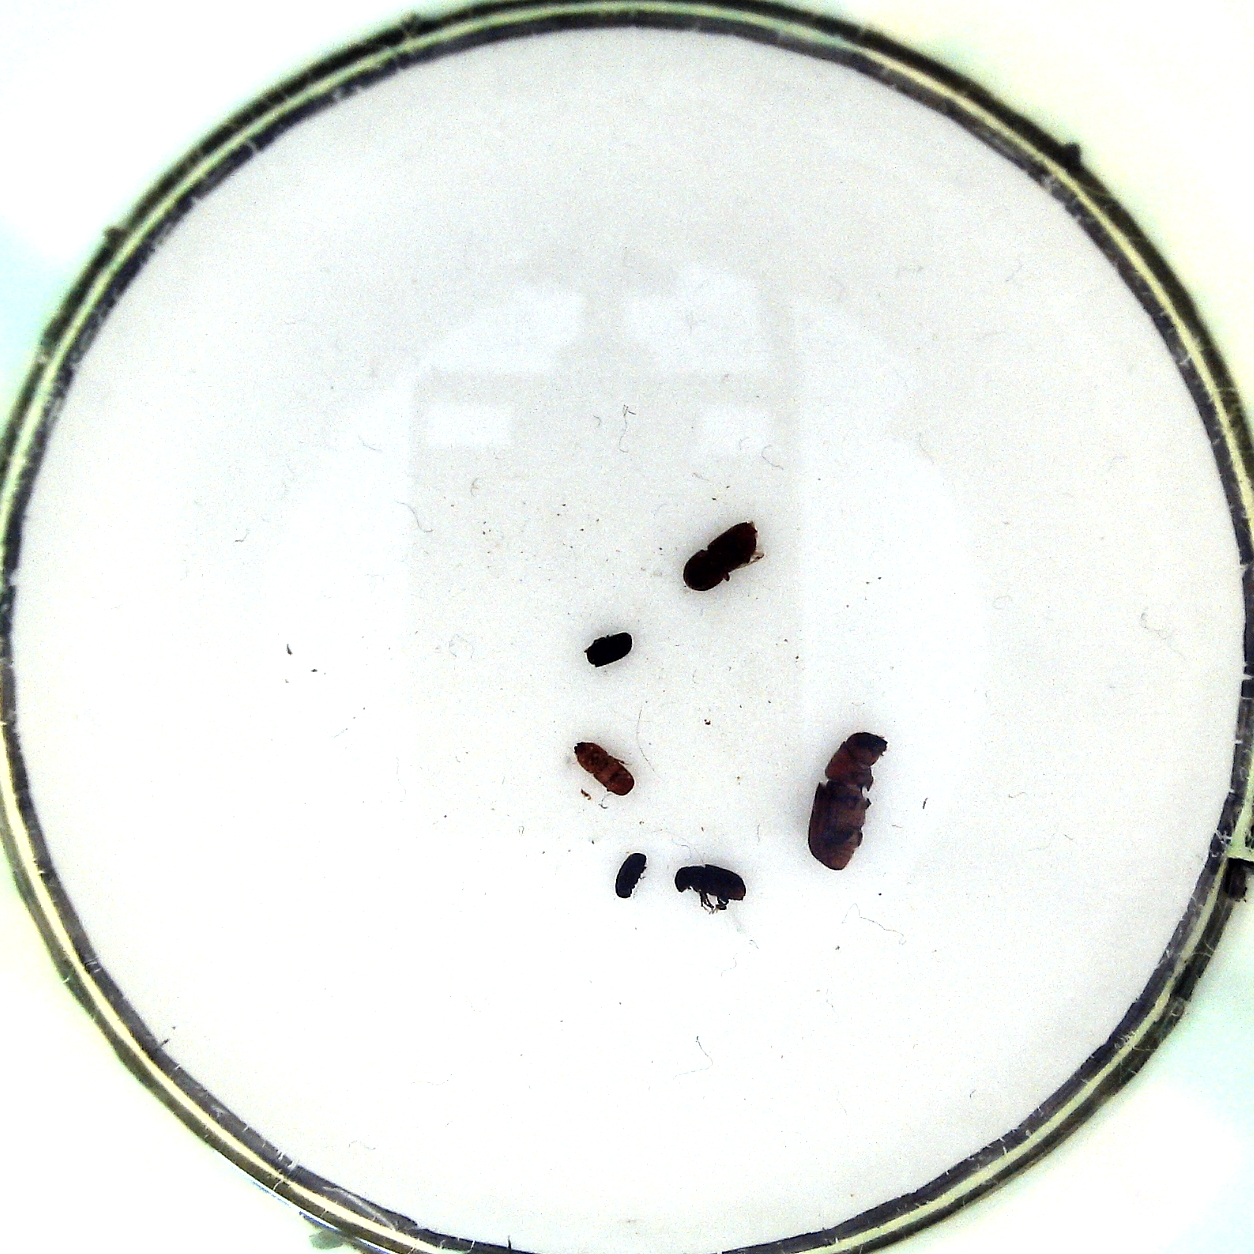Leconte: (805, 727, 887, 877)
Linnaeus: (675, 517, 768, 594)
acuminatus: (571, 740, 638, 796)
armandi: (675, 864, 746, 915)
coleoptera: (583, 629, 634, 672), (612, 849, 650, 899)
